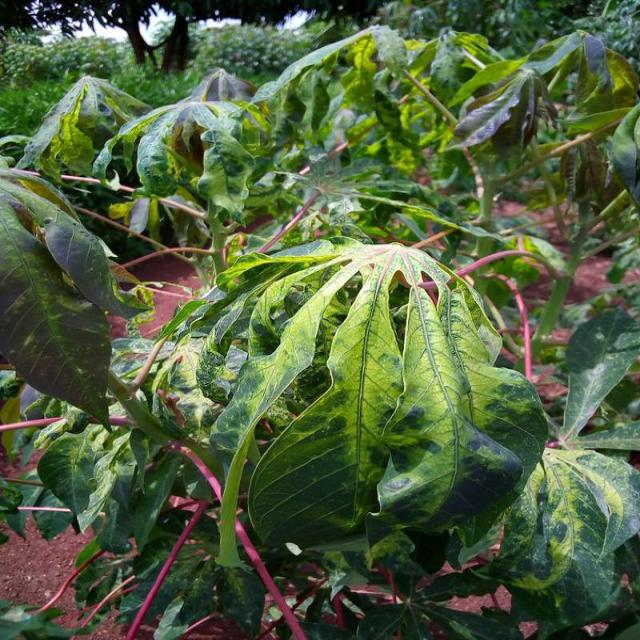cassava leaf: (204, 240, 548, 575), (0, 160, 150, 432)
